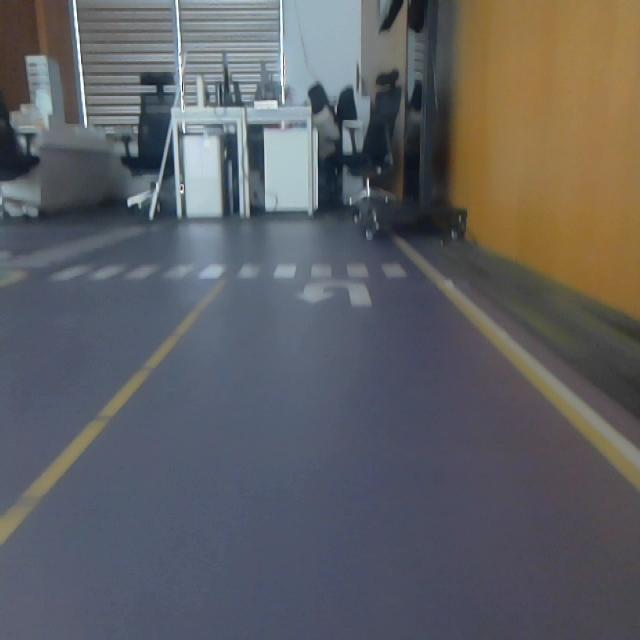left_lane: (2, 282, 227, 545)
right_lane: (390, 235, 640, 491)
